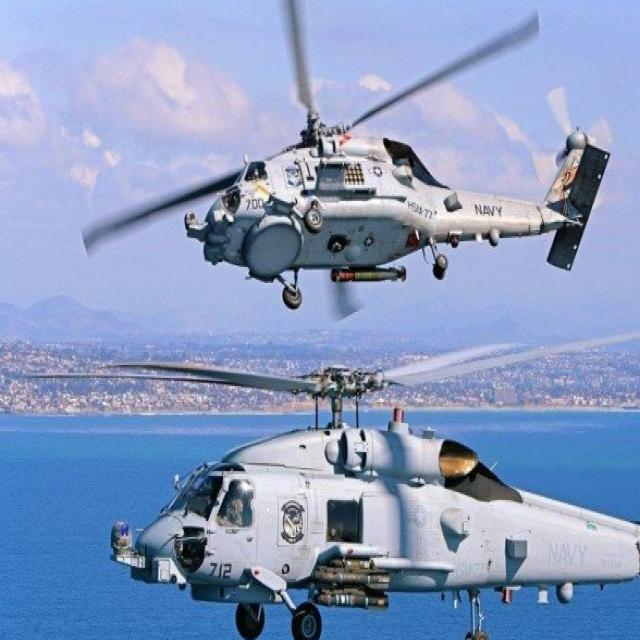helicopter: (97, 218, 640, 601), (100, 1, 571, 323)
